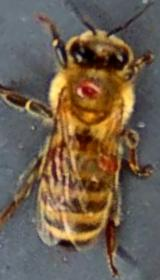varroa_mite: (90, 145, 123, 178), (74, 80, 106, 102)
